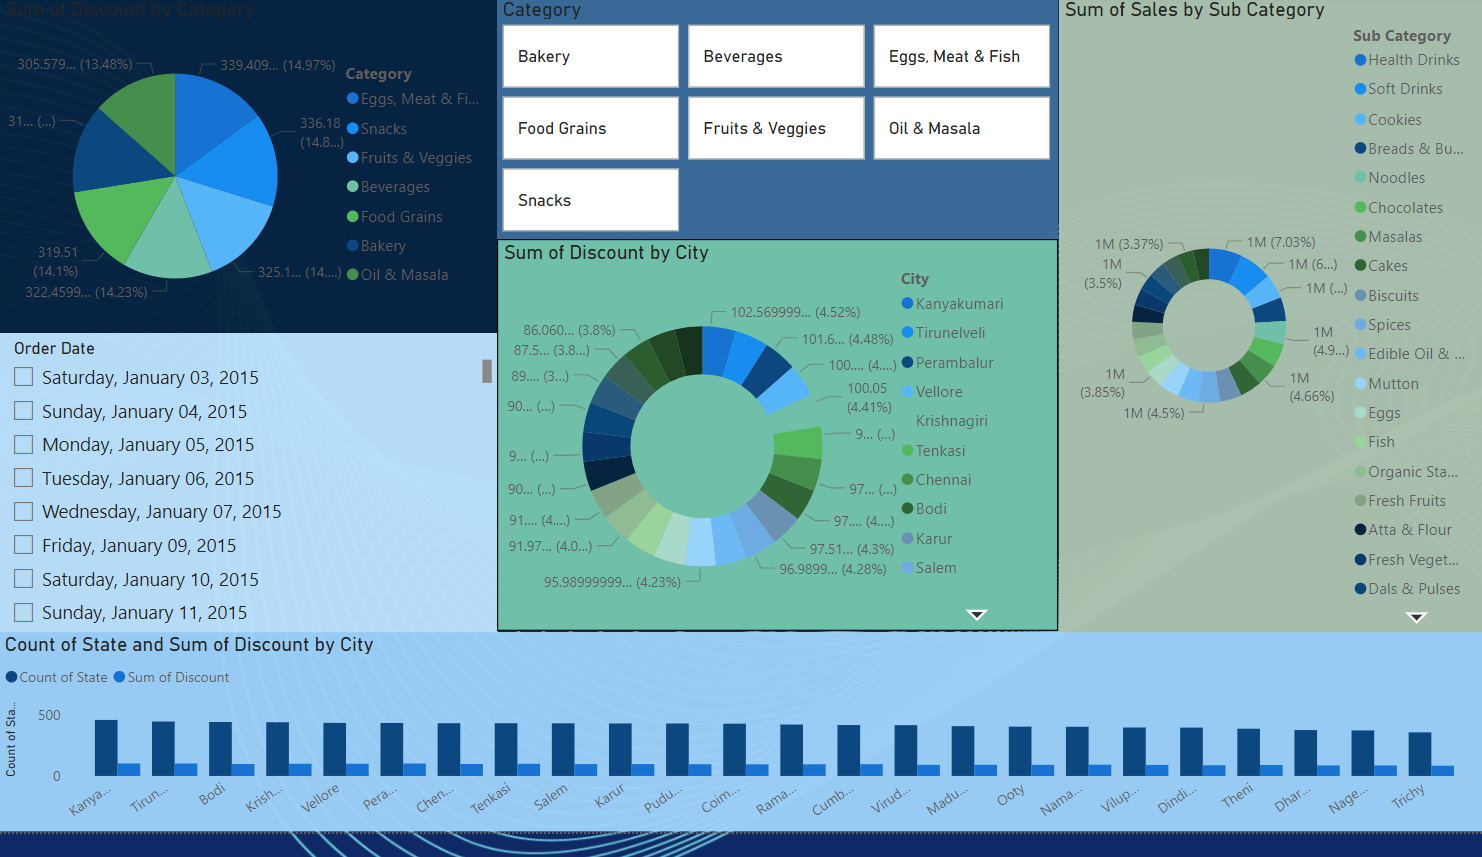

What the dashboard file says about the page in this screenshot:
{"tool":"powerbi","page":{"name":"Page 1","canvas":[1280,720],"ordinal":0},"visuals":[{"type":"pieChart","fields":{"Category":["Supermart Grocery Sales - Retail Analytics Dataset.Category"],"Y":["Sum(Supermart Grocery Sales - Retail Analytics Dataset.Discount)"]},"box":[0,0,429.5,289.8],"z":0},{"type":"lineClusteredColumnComboChart","fields":{"Category":["Supermart Grocery Sales - Retail Analytics Dataset.City"],"Y":["CountNonNull(Supermart Grocery Sales - Retail Analytics Dataset.State)","Sum(Supermart Grocery Sales - Retail Analytics Dataset.Discount)"]},"box":[0,547.6,1280,172.2],"z":1000},{"type":"advancedSlicerVisual","fields":{"Values":["Supermart Grocery Sales - Retail Analytics Dataset.Category"]},"box":[429.9,0,484.4,209.1],"z":2000},{"type":"slicer","fields":{"Values":["Supermart Grocery Sales - Retail Analytics Dataset.Order Date"]},"box":[0,289.8,429.5,257.9],"z":4000},{"type":"donutChart","fields":{"Y":["Sum(Supermart Grocery Sales - Retail Analytics Dataset.Sales)"],"Category":["Supermart Grocery Sales - Retail Analytics Dataset.Sub Category"]},"box":[914.3,0,365.7,547.7],"z":5000},{"type":"donutChart","fields":{"Y":["Sum(Supermart Grocery Sales - Retail Analytics Dataset.Discount)"],"Category":["Supermart Grocery Sales - Retail Analytics Dataset.City"]},"box":[429.9,209.1,484.4,338.5],"z":6000}]}

Visuals, with their boxes in screenshot pixels (x1, y1, x2, y2), scaled from the page's 1280x720 canvas onto the 1482x857 screenshot:
pieChart - Supermart Grocery Sales - Retail Analytics Dataset.Category x Sum(Supermart Grocery Sales - Retail Analytics Dataset.Discount): (0,0,497,345)
lineClusteredColumnComboChart - Supermart Grocery Sales - Retail Analytics Dataset.City x CountNonNull(Supermart Grocery Sales - Retail Analytics Dataset.State): (0,652,1481,856)
advancedSlicerVisual - Supermart Grocery Sales - Retail Analytics Dataset.Category: (498,0,1059,249)
slicer - Supermart Grocery Sales - Retail Analytics Dataset.Order Date: (0,345,497,652)
donutChart - Sum(Supermart Grocery Sales - Retail Analytics Dataset.Sales) x Supermart Grocery Sales - Retail Analytics Dataset.Sub Category: (1059,0,1481,652)
donutChart - Sum(Supermart Grocery Sales - Retail Analytics Dataset.Discount) x Supermart Grocery Sales - Retail Analytics Dataset.City: (498,249,1059,652)
